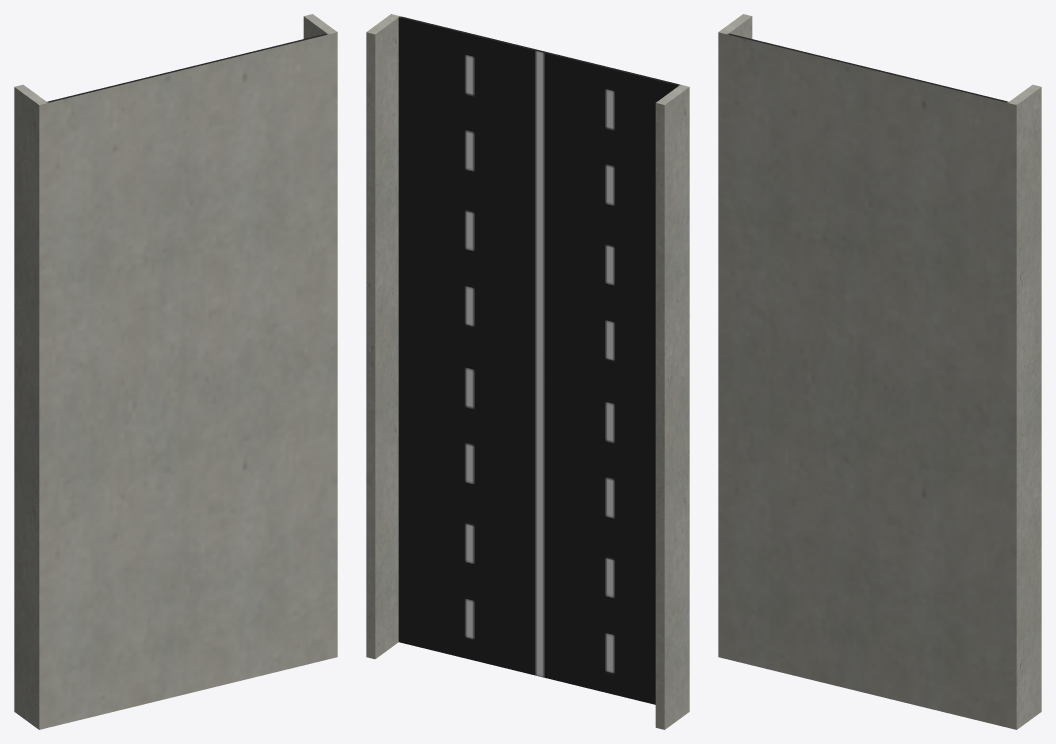
File: bridge-road-double-16m.obj
3 views of the same model, side by side, from view 1: azimuth 30°, elevation 25°; view 2: azimuth 150°, elevation 25°; view 3: azimuth 330°, elevation 25° (orthographic).
Parts seen in each view (by area): view 1: bridge-road-double-16m_Plane.145; view 2: bridge-road-double-16m_Plane.145; view 3: bridge-road-double-16m_Plane.145.
Part boxes in pixels (<box>): bridge-road-double-16m_Plane.145: <box>14,14,337,729</box>; bridge-road-double-16m_Plane.145: <box>366,14,689,729</box>; bridge-road-double-16m_Plane.145: <box>718,14,1041,729</box>.
Bounding box in the file's own units: 8 × 16 × 1.16.
